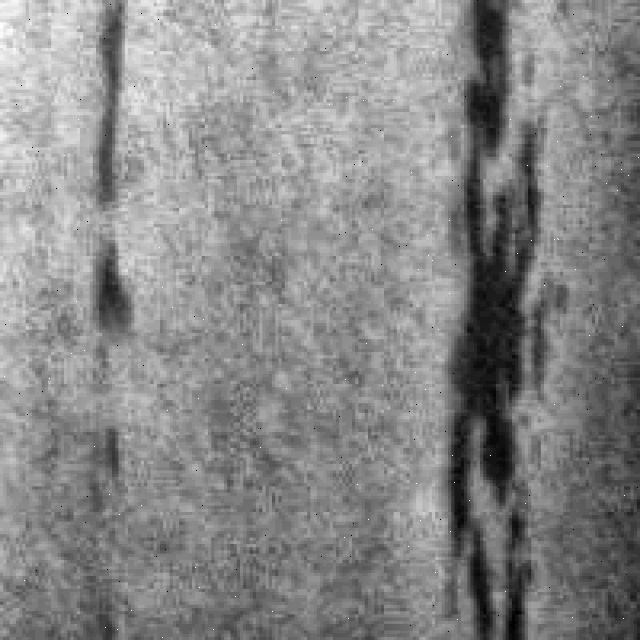Patches: (432, 0, 560, 630), (74, 0, 140, 211), (70, 236, 138, 372), (90, 413, 138, 496)
